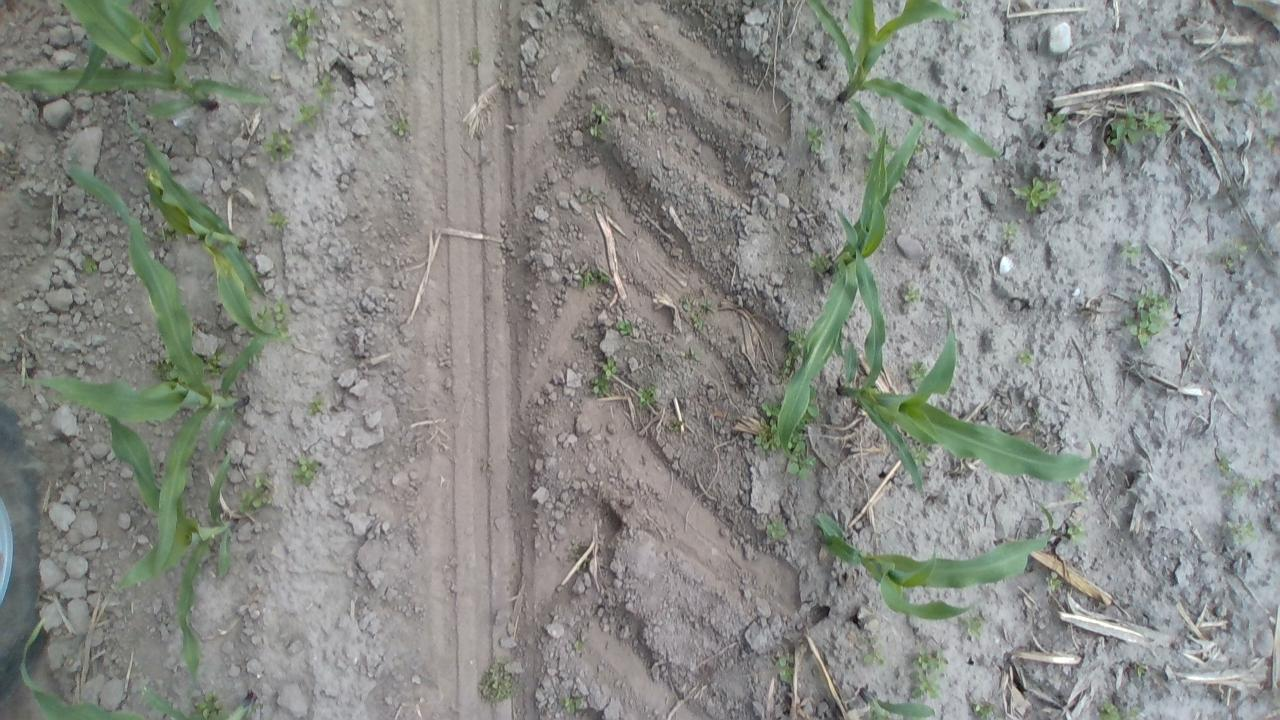Maize: (23, 156, 277, 578), (826, 276, 1099, 496), (759, 116, 924, 469), (102, 401, 246, 690), (808, 492, 1068, 632), (125, 114, 281, 346), (794, 0, 1002, 173), (0, 0, 273, 119), (19, 610, 258, 720), (856, 683, 938, 719)
Weeds: (1124, 286, 1172, 348), (1110, 102, 1172, 146), (282, 3, 323, 63), (910, 646, 950, 700), (478, 655, 518, 704), (1013, 175, 1060, 214), (752, 397, 784, 453), (588, 352, 622, 398), (239, 470, 273, 515), (780, 328, 809, 380), (681, 292, 718, 332), (1210, 239, 1250, 275), (586, 96, 616, 142), (786, 433, 815, 479), (256, 300, 292, 336), (262, 127, 297, 164), (190, 688, 228, 718), (566, 534, 592, 576), (572, 265, 614, 291), (290, 453, 322, 486), (1224, 518, 1257, 548), (1096, 699, 1144, 719), (959, 610, 990, 640), (1224, 476, 1261, 499), (861, 638, 889, 668), (292, 102, 322, 130), (1209, 71, 1239, 99), (803, 122, 829, 154), (800, 388, 821, 427), (202, 346, 228, 376), (804, 248, 832, 275), (774, 650, 796, 684), (1252, 86, 1276, 116), (968, 699, 1002, 720), (897, 281, 923, 308), (904, 358, 929, 386), (1118, 240, 1144, 266), (634, 384, 660, 409), (764, 517, 789, 542), (1066, 478, 1090, 504), (908, 442, 932, 467), (266, 209, 290, 234), (1064, 518, 1086, 545), (316, 74, 338, 101), (1043, 112, 1070, 134), (558, 693, 586, 714), (1012, 346, 1038, 368), (612, 318, 638, 340), (146, 1, 168, 26), (999, 220, 1021, 244), (390, 114, 412, 138), (307, 396, 331, 417), (152, 356, 175, 377), (1214, 452, 1234, 476), (576, 184, 600, 204), (679, 344, 702, 364), (1046, 572, 1066, 594), (568, 634, 588, 656), (1130, 661, 1152, 680), (158, 223, 176, 245), (78, 258, 100, 276), (466, 47, 484, 68), (476, 456, 496, 474), (644, 108, 662, 128), (1252, 241, 1271, 259), (1262, 132, 1276, 152), (669, 418, 686, 432)
